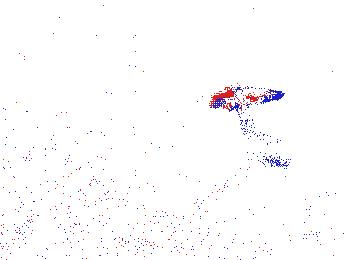redtail glassfish: (203, 85, 293, 111)
